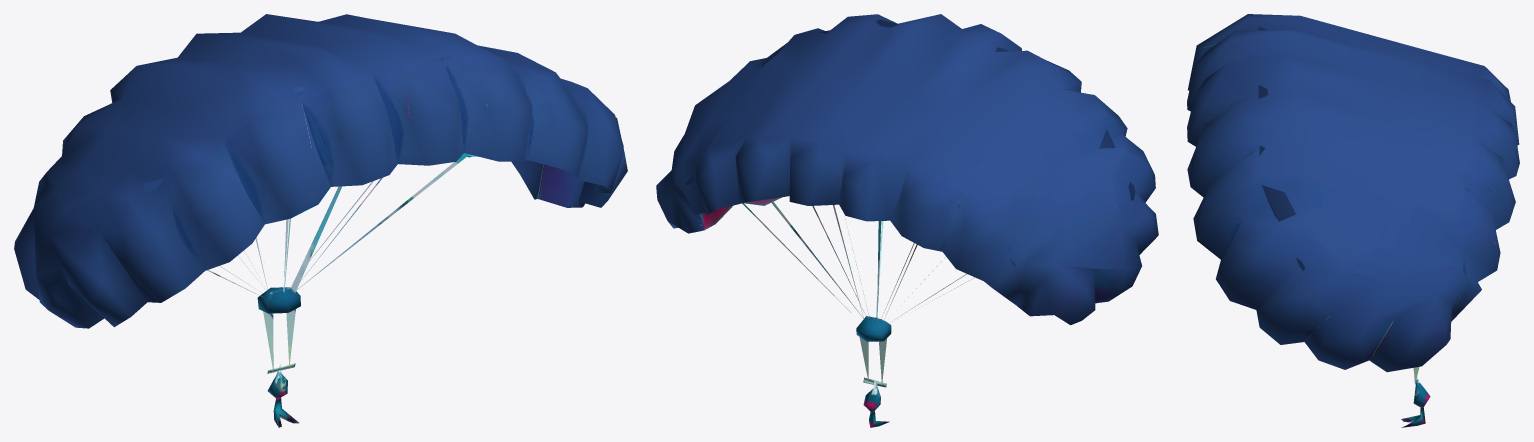
Rendered from parasail.glb.
3 views of the same model, side by side, from view 1: azimuth 30°, elevation 25°; view 2: azimuth 150°, elevation 25°; view 3: azimuth 270°, elevation 25° (orthographic). The views are drawn at different scales.
Bounding box in the file's own units: 1 × 0.743 × 0.5878.
1 material, 1 textured.
